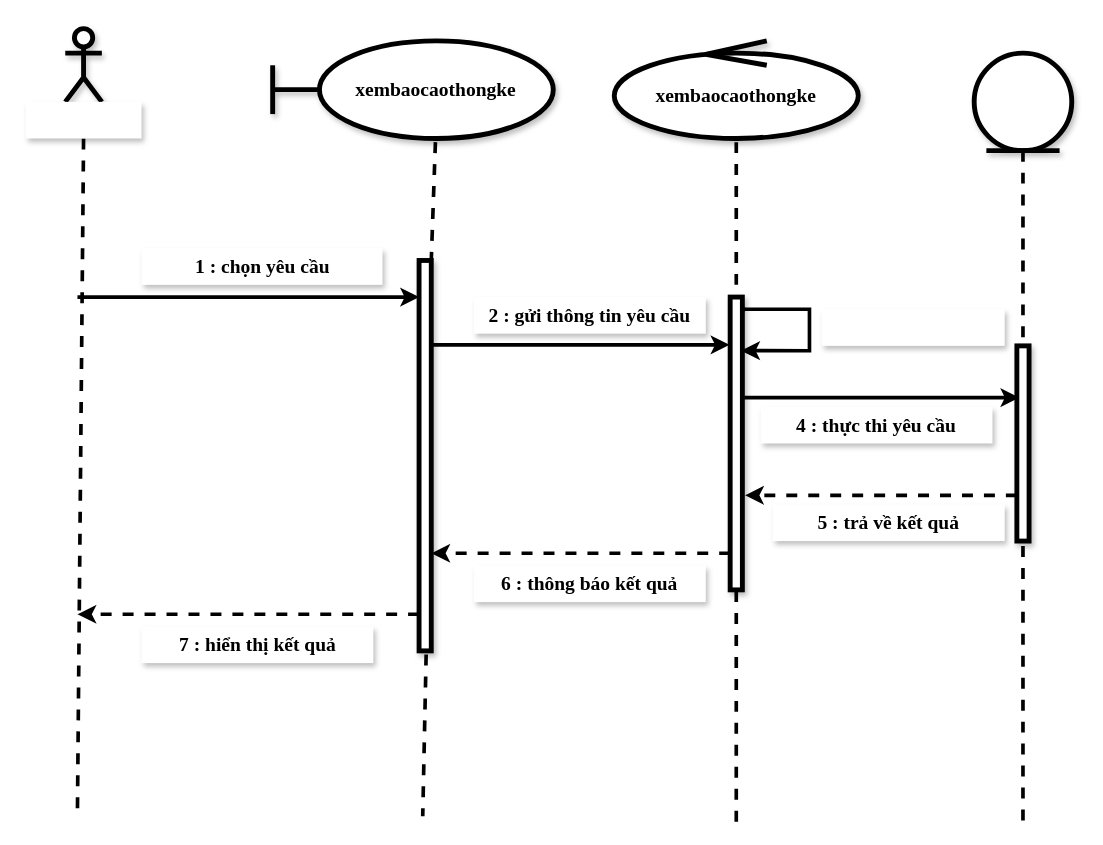
This 1103x845 diagram has some shape labels left out. The centre of each missing label's shape, as x and y in pixels:
3:kiểm tra yêu cầu: point (913, 329)
Actor: point (84, 66)
admin: point (84, 121)
csdl: point (1023, 103)
